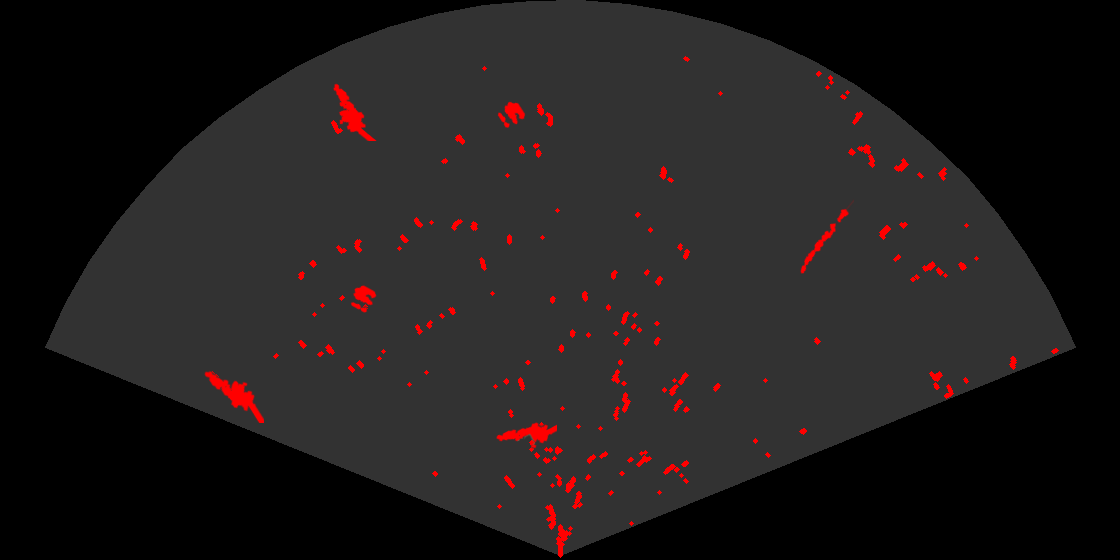ball: (496, 100, 527, 129), (349, 284, 378, 314)
chain: (799, 198, 854, 275)
frogman: (203, 369, 264, 423), (332, 82, 378, 141), (495, 421, 557, 450)
